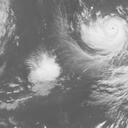cyclone: (80, 14, 126, 54), (26, 48, 62, 92)
